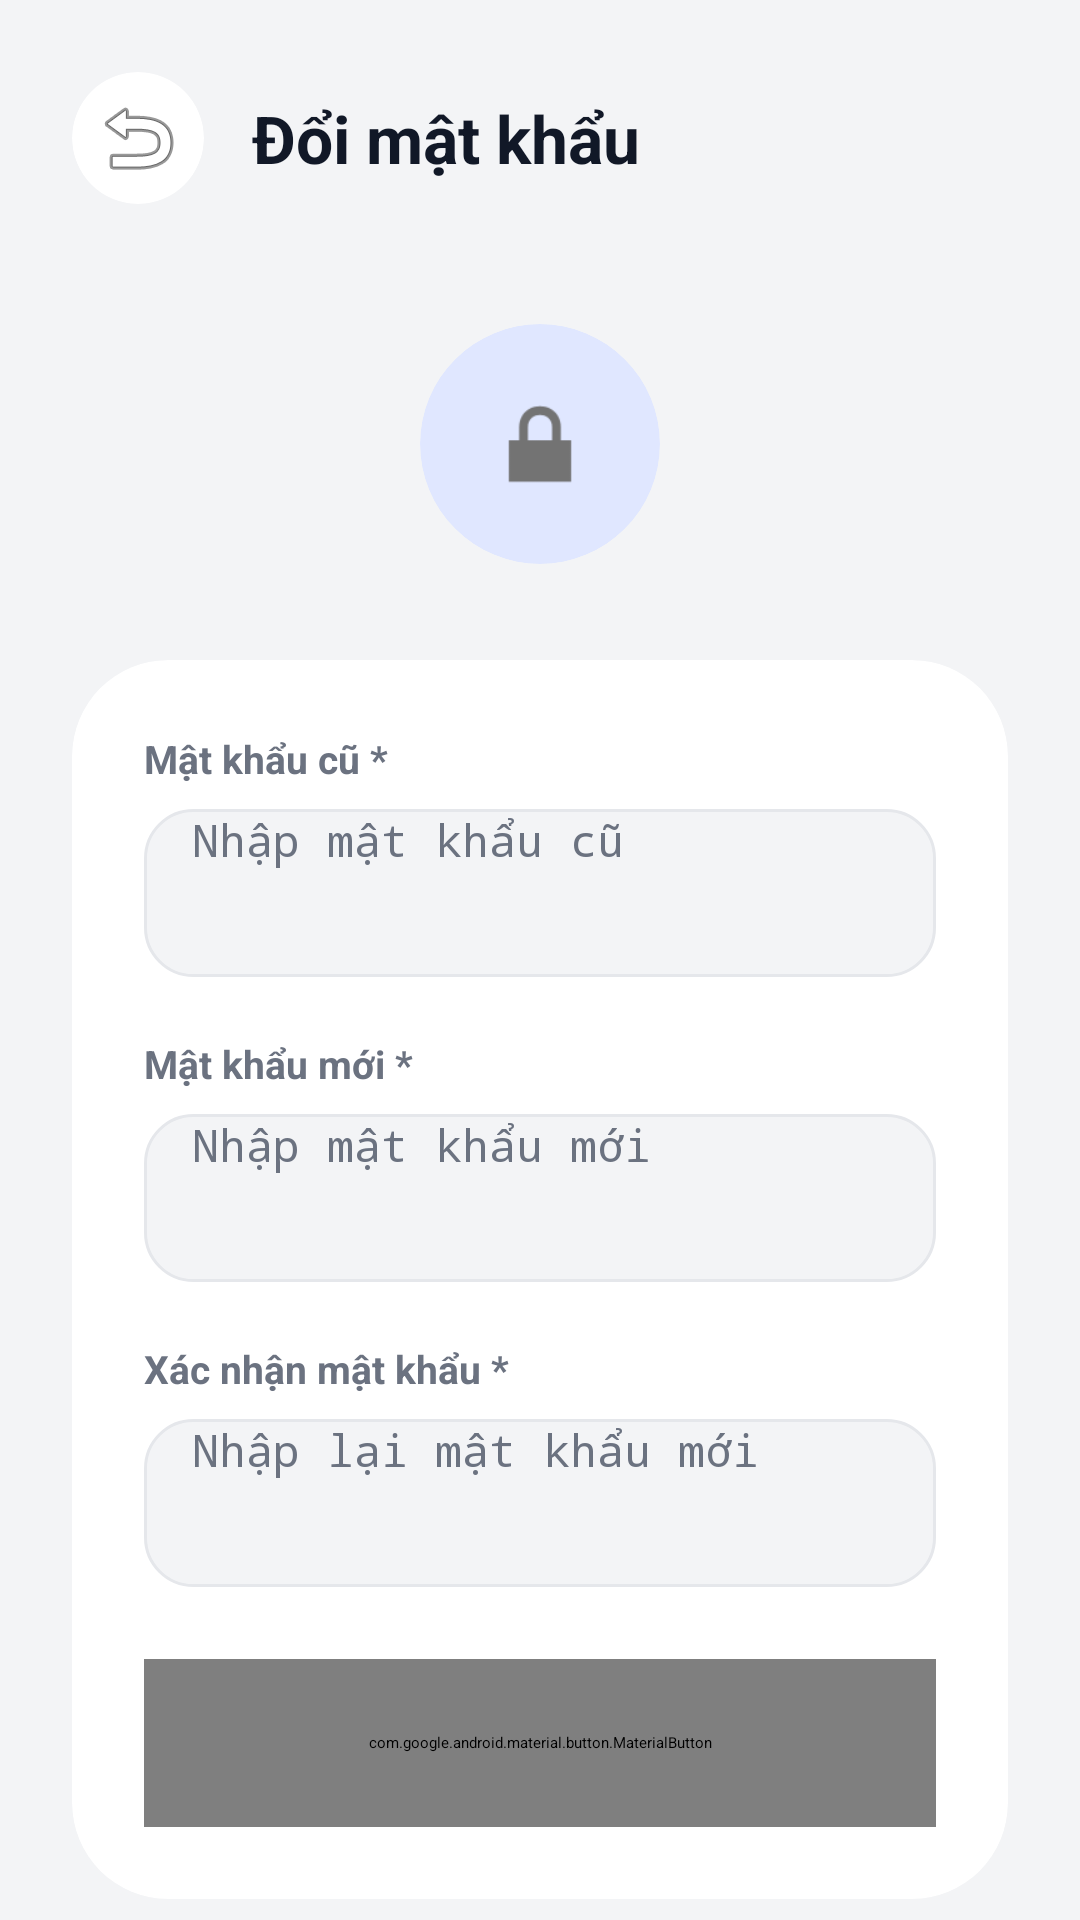

Icon bounding boxes for this 1080 x 1920 phone screenshot, format (x1, y1, x2, y2):
lock: (508, 406, 572, 482)
revert: (72, 72, 204, 204)
